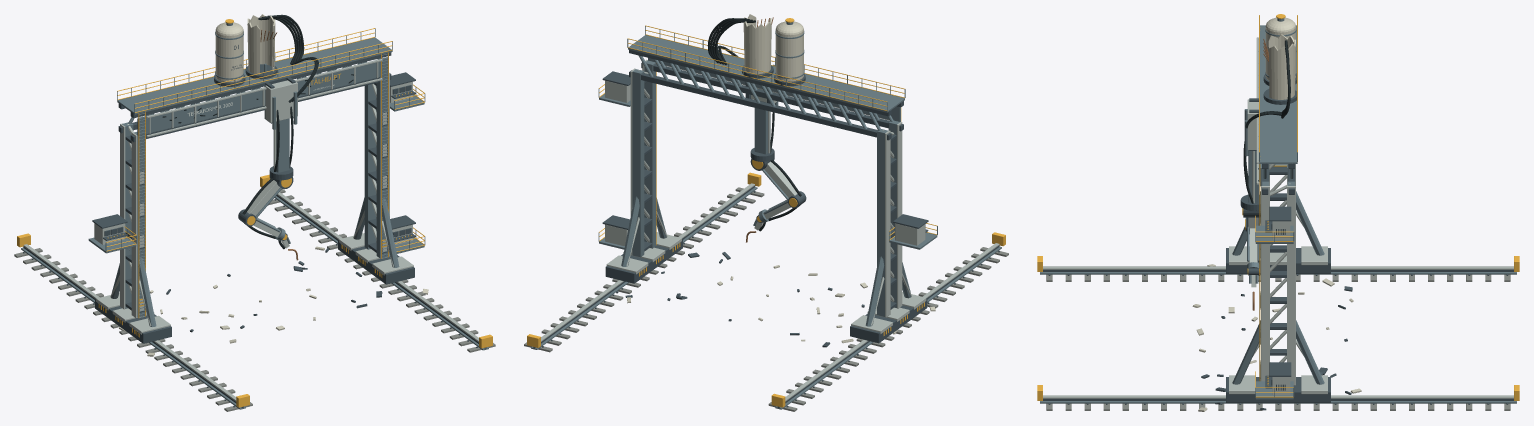
File: terraformer_3000_d2.glb
3 renders of one model, left to right at view 1: azimuth 30°, elevation 25°; view 2: azimuth 150°, elevation 25°; view 3: azimuth 270°, elevation 25°, orthographic. The views are drawn at different scales.
Visible parts, largest first — view 1: Roof catwalk.002, Gantry front fascia.002, Tower structural chord.011, Tower structural chord.010, Torn reservoir shell, Material pressure vessel.004, Tower outer armor.008, Carriage plate.002, Gantry box chord.009, Tower structural chord.008, Tower outer armor.009, Tower structural chord.009 (+13 smaller); view 2: Roof catwalk.002, Tower structural chord.011, Gantry box chord.010, Tower structural chord.010, Gantry box chord.008, Torn reservoir shell, Tower structural chord.009, Material pressure vessel.004, Tower outer armor.009, Gantry box chord.011, Tower outer armor.008, Rail bogie chassis.005 (+14 smaller); view 3: Roof catwalk.002, Torn reservoir shell, Tower outer armor.010, Tower outer armor.011, Rail running head.004, Rail running head.005, Rail flange.005, Rail flange.004, Rail web.004, Rail web.005, Rail bogie chassis.005, Rail bogie chassis.004 (+7 smaller).
Boxes of the visible parts, x1,y1,x2,y2 form: Roof catwalk.002: (117,37,392,114); Gantry front fascia.002: (137,57,387,135); Tower structural chord.011: (364,84,376,249); Tower structural chord.010: (376,75,387,258); Torn reservoir shell: (247,14,275,74); Material pressure vessel.004: (215,31,243,81); Tower outer armor.008: (131,132,137,317); Carriage plate.002: (265,80,297,122); Gantry box chord.009: (130,52,391,118); Tower structural chord.008: (134,132,144,317); Tower outer armor.009: (120,123,125,309); Tower structural chord.009: (122,122,133,308); Roof catwalk.002: (628,35,904,112); Tower structural chord.011: (632,69,644,257); Gantry box chord.010: (629,70,891,140); Tower structural chord.010: (644,60,655,248); Gantry box chord.008: (641,62,903,131); Torn reservoir shell: (743,14,771,73); Tower structural chord.009: (877,129,888,316); Material pressure vessel.004: (775,29,803,81); Tower outer armor.009: (885,130,890,317); Gantry box chord.011: (629,50,891,116); Tower outer armor.008: (897,122,902,308); Rail bogie chassis.005: (605,238,682,283); Roof catwalk.002: (1259,25,1297,163); Torn reservoir shell: (1268,34,1295,99); Tower outer armor.010: (1261,186,1269,381); Tower outer armor.011: (1287,186,1295,385); Rail running head.004: (1043,266,1513,269); Rail running head.005: (1043,395,1513,398); Rail flange.005: (1040,401,1516,403); Rail flange.004: (1040,272,1516,274); Rail web.004: (1043,269,1513,271); Rail web.005: (1043,398,1513,400); Rail bogie chassis.005: (1226,377,1330,402); Rail bogie chassis.004: (1226,248,1330,273).
Bounding box in the file's own units: 42.09 × 35.96 × 50.6.
